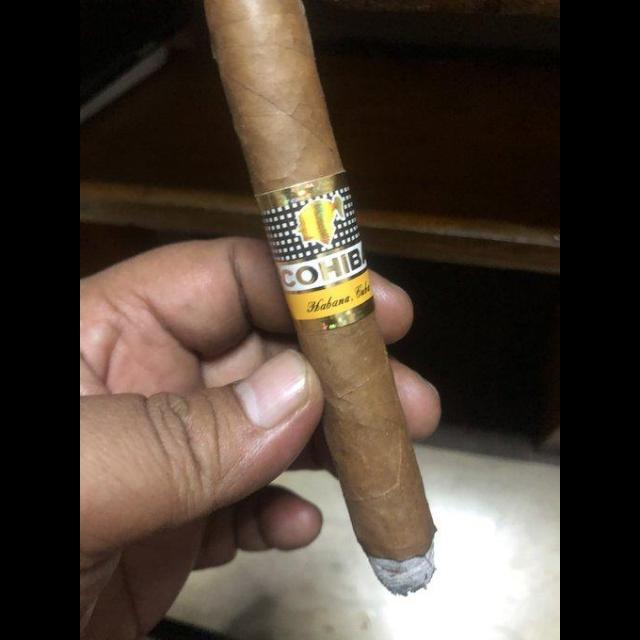rokok: (202, 0, 442, 598)
